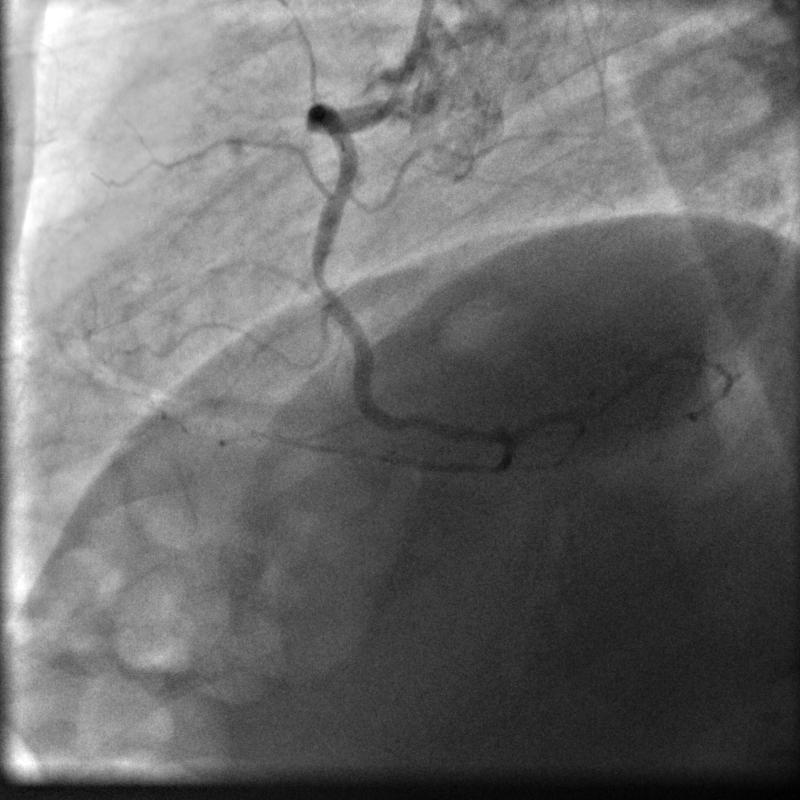Stenosis: (307, 267, 335, 295)
